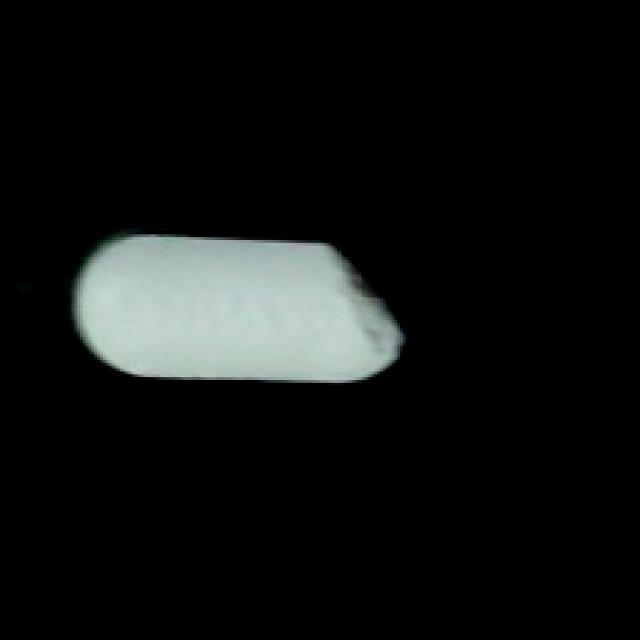defected: (66, 217, 414, 386)
